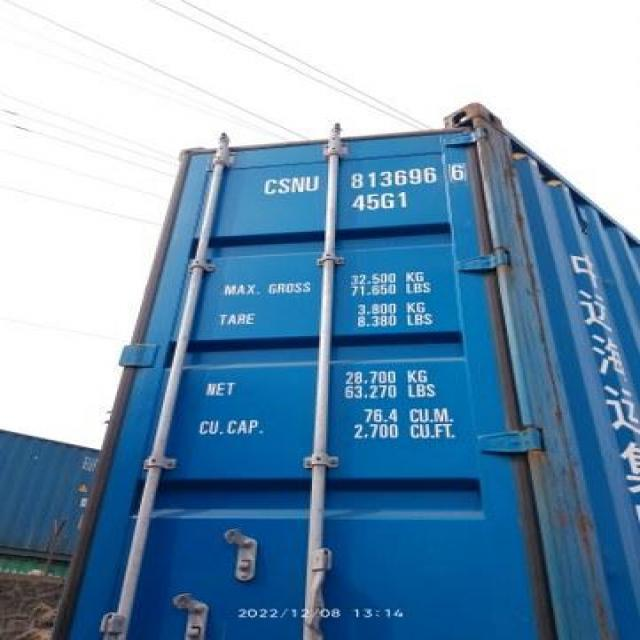container_number_h: (231, 132, 530, 241)
